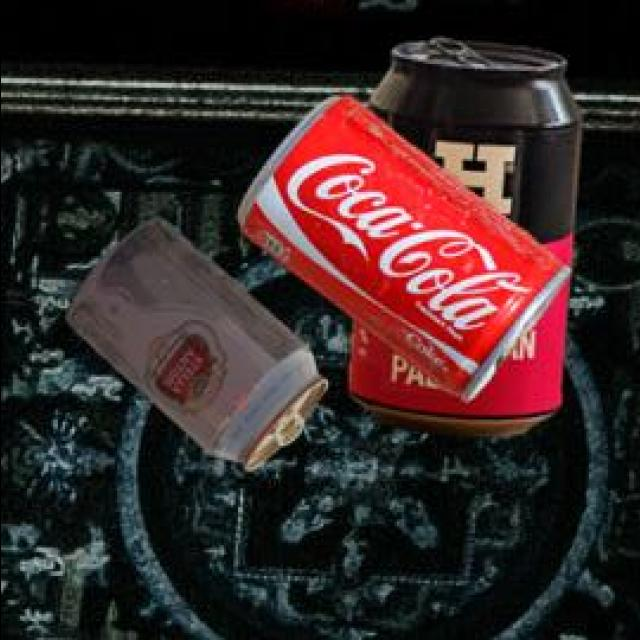logam: (241, 94, 572, 397), (352, 34, 584, 433), (68, 215, 331, 466)
